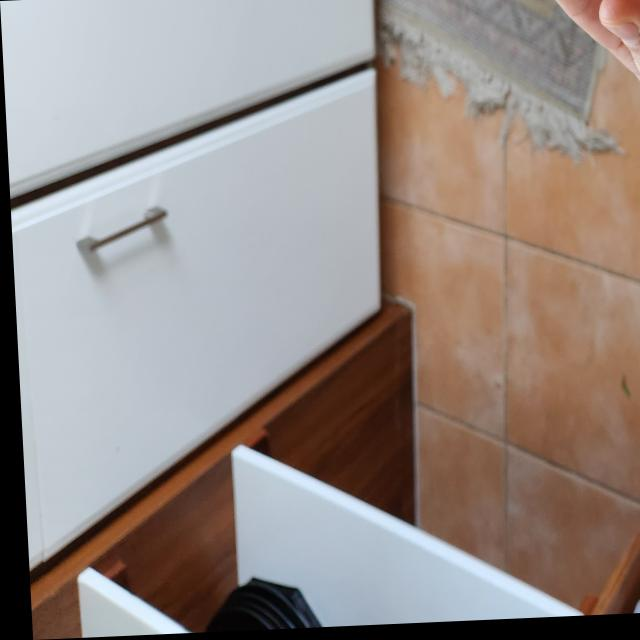salt: (464, 0, 640, 44)
